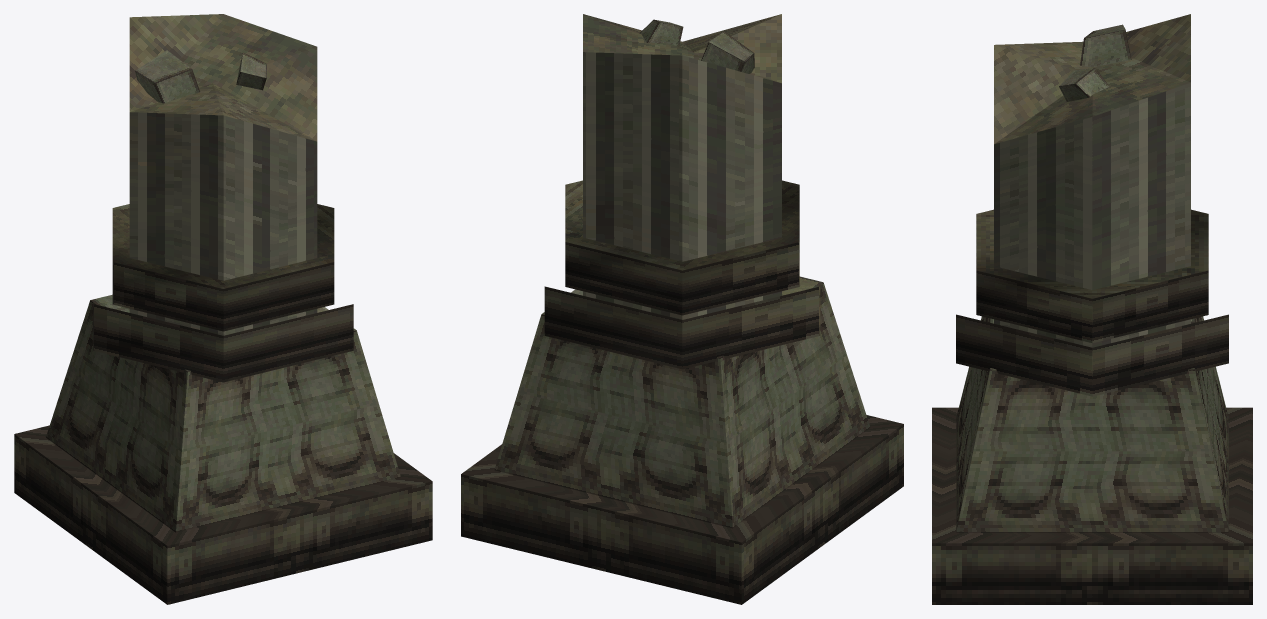
Rendered from pillar_collapsed_01.glb.
The picture shows the model from 3 angles, left to right: view 1: azimuth 30°, elevation 25°; view 2: azimuth 150°, elevation 25°; view 3: azimuth 270°, elevation 25°; orthographic projection. The views are drawn at different scales.
Visible parts, largest first — view 1: pillar_collapsed_01; view 2: pillar_collapsed_01; view 3: pillar_collapsed_01.
Boxes of the visible parts, box(x1,y1,x2,y2) form: pillar_collapsed_01: box(14, 14, 432, 604); pillar_collapsed_01: box(461, 14, 903, 604); pillar_collapsed_01: box(932, 14, 1252, 604).
Bounding box in the file's own units: 1.13 × 1.94 × 1.13.
1 material, 1 textured.
